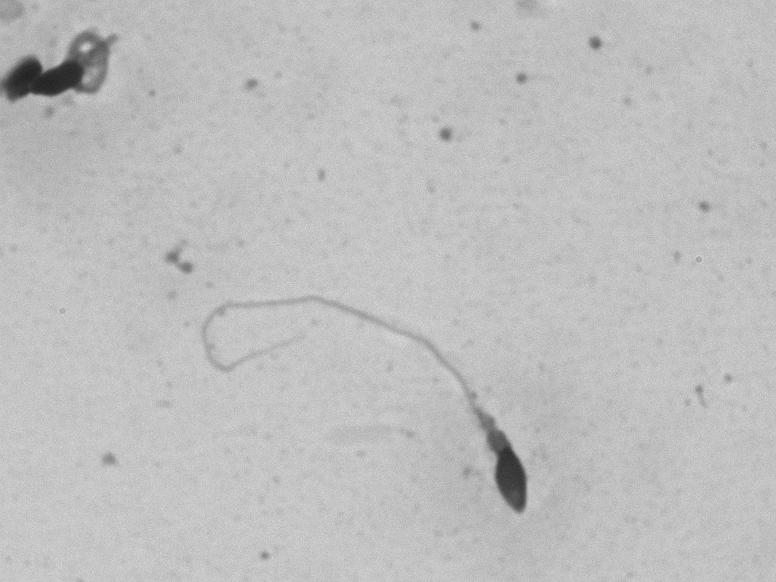Abnormal: (166, 253, 554, 548)
